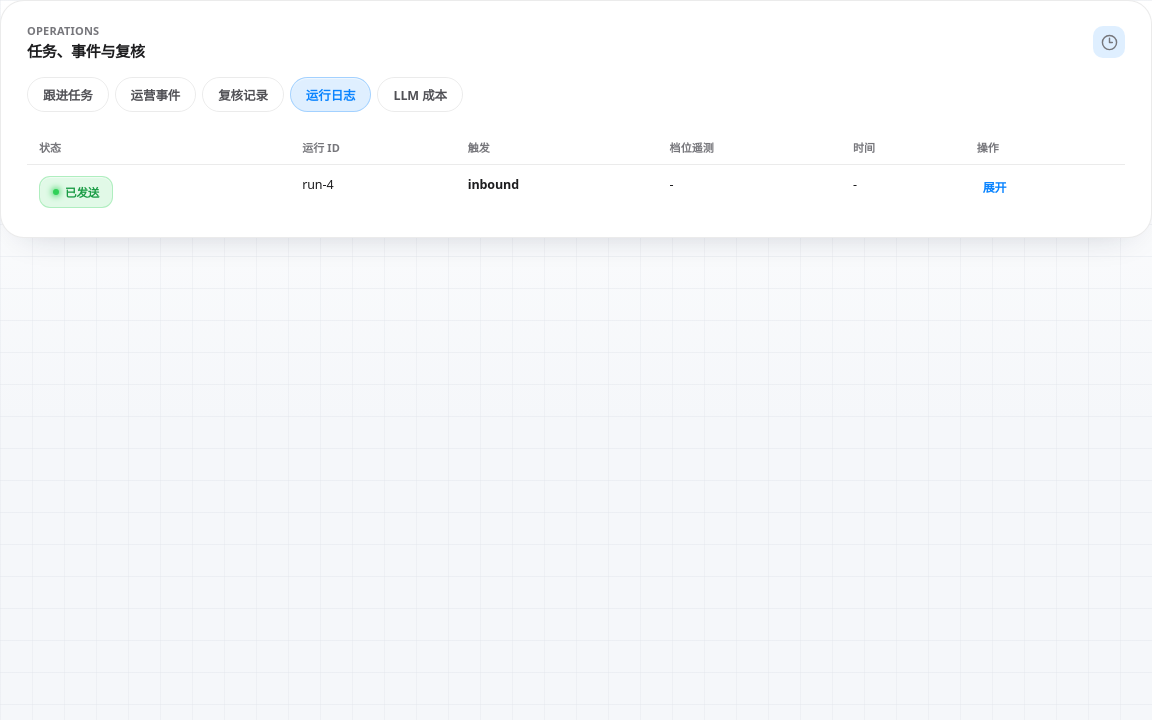
Test: 运行日志 runs tab + tier 遥测(C6+C9) › 展开后的阶段区块不使用事件时间线的 flex 容器类
What coordinates should you click on to do the following:
click the button "展开"
I would click on:
 (995, 187)
Its box is left=977, top=176, right=1012, bottom=198.
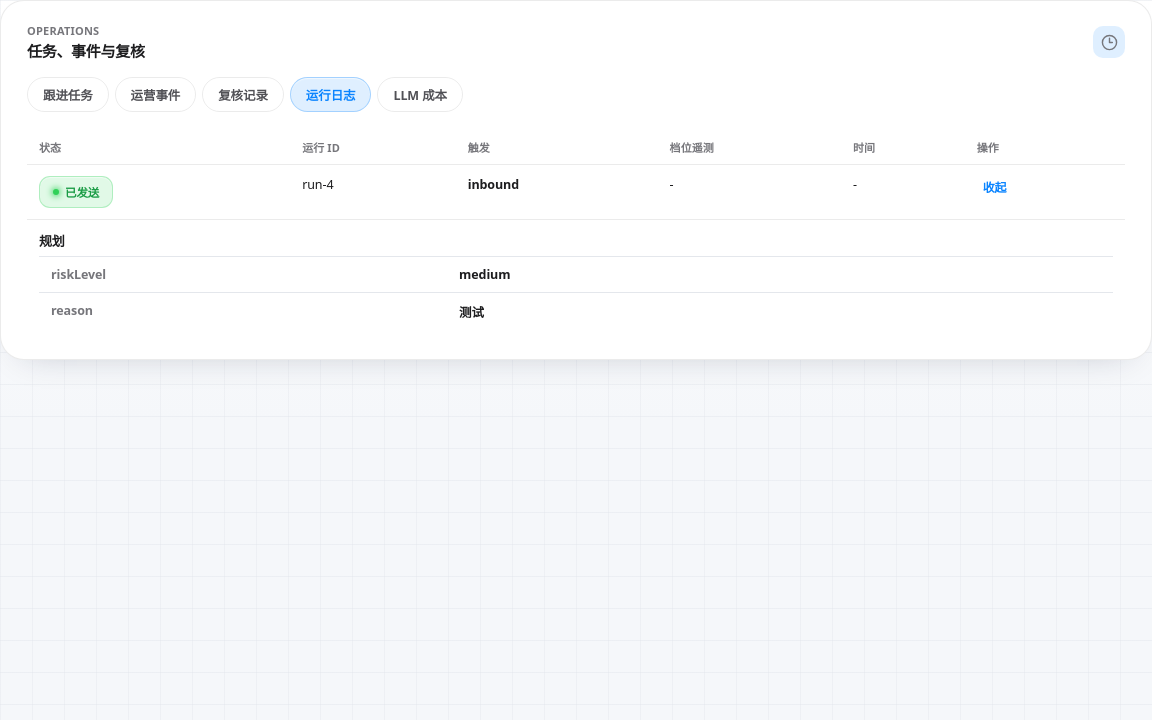
expect the text "规划" is shown: met, box left=39, top=232, right=65, bottom=250
expect the table is shown: met, box left=39, top=256, right=1113, bottom=330
